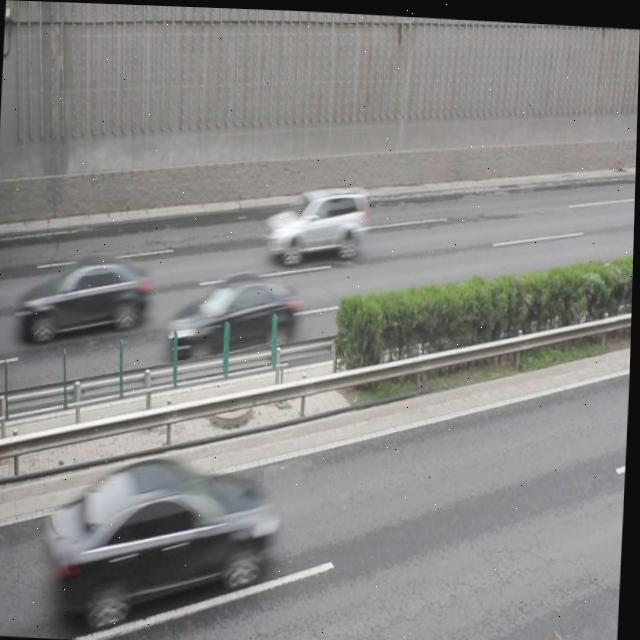car: (47, 453, 281, 633), (165, 267, 304, 363), (18, 251, 150, 346), (266, 180, 369, 266)
